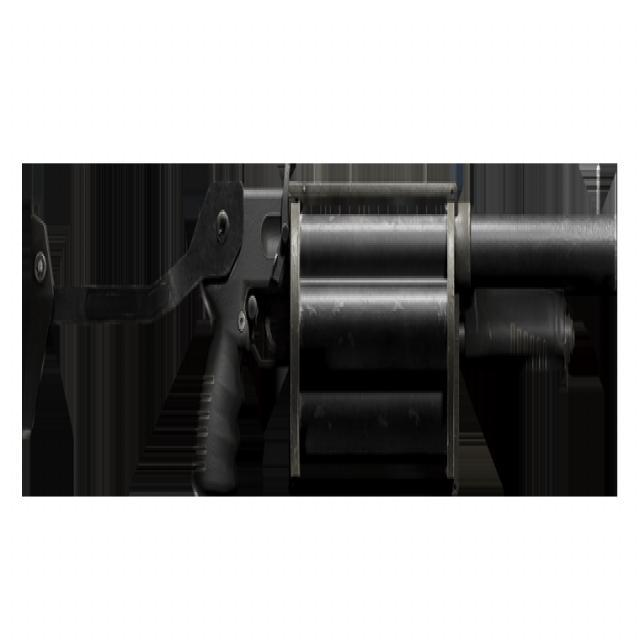rocket launcher: (11, 126, 624, 509)
